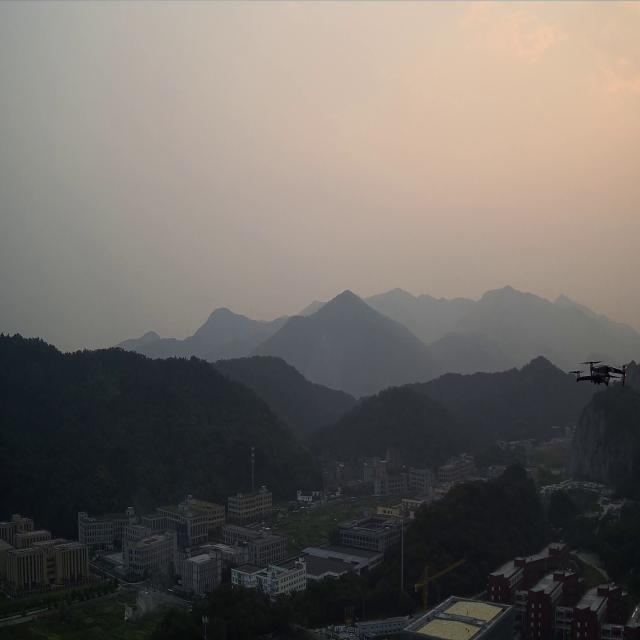UAV: (565, 357, 627, 388)
